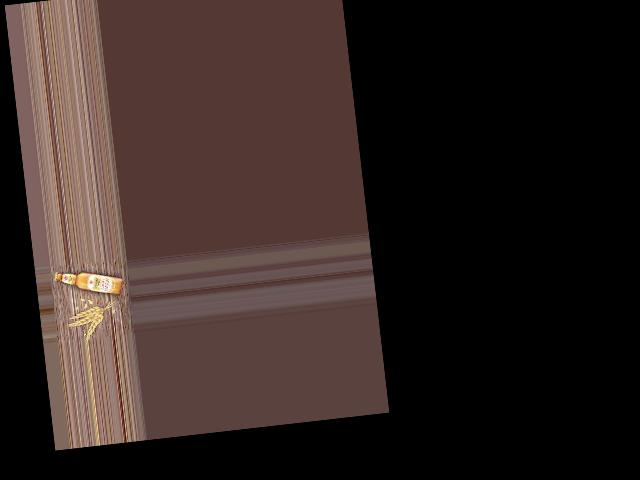beer: (53, 264, 124, 301)
